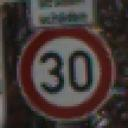speed_limit_30: (16, 24, 118, 122)
